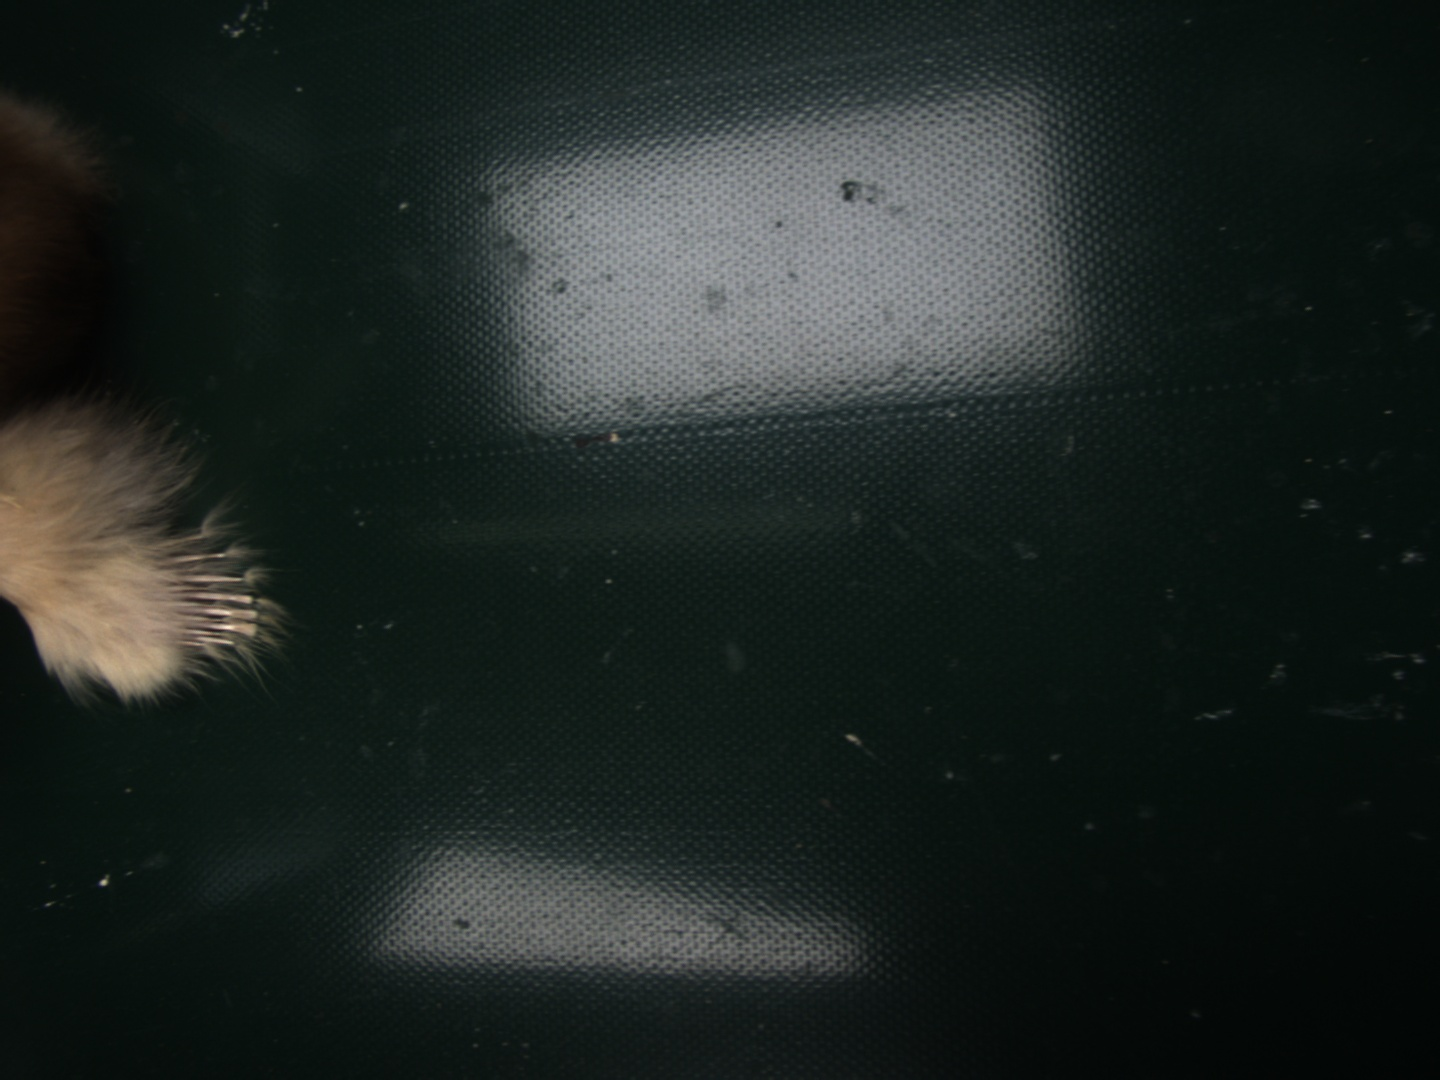female: (147, 531, 262, 657)
